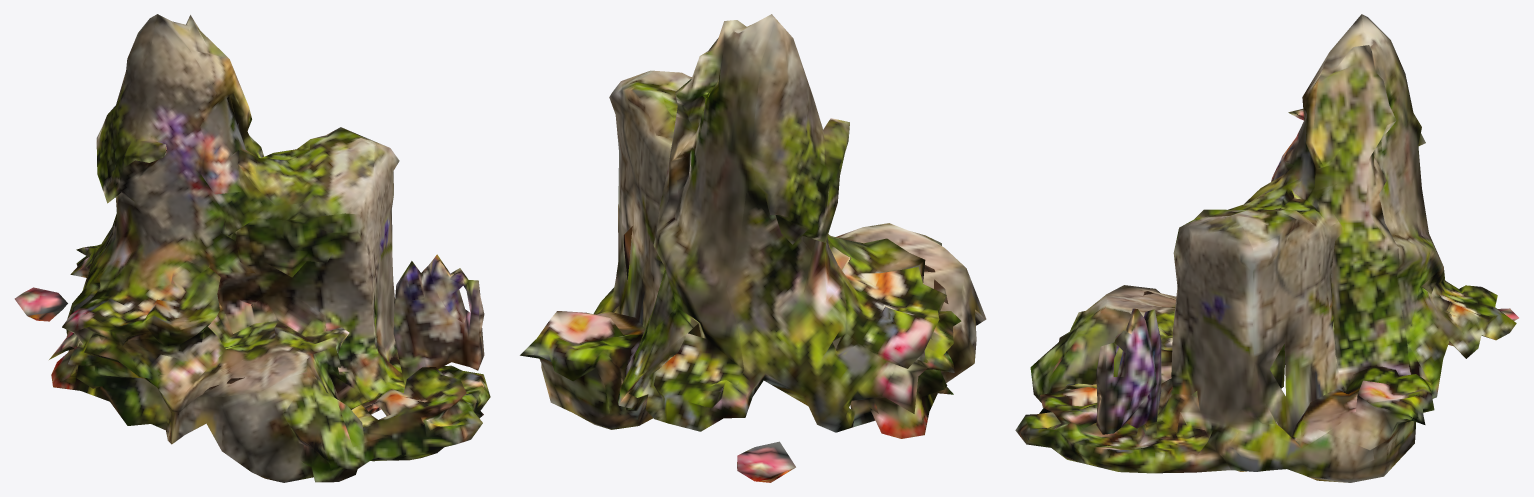
File: SpringDecor_BossRoom_BlossomPillar.fbx
3 views of the same model, side by side, from view 1: azimuth 30°, elevation 25°; view 2: azimuth 150°, elevation 25°; view 3: azimuth 270°, elevation 25° (orthographic). The views are drawn at different scales.
Visible parts, largest first — view 1: SpringDecor_BossRoom_BlossomPillar_Mesh; view 2: SpringDecor_BossRoom_BlossomPillar_Mesh; view 3: SpringDecor_BossRoom_BlossomPillar_Mesh.
Boxes of the visible parts, box(x1,y1,x2,y2) form: SpringDecor_BossRoom_BlossomPillar_Mesh: box(14, 14, 490, 482); SpringDecor_BossRoom_BlossomPillar_Mesh: box(520, 14, 986, 482); SpringDecor_BossRoom_BlossomPillar_Mesh: box(1015, 14, 1518, 482).
Bounding box in the file's own units: 4.74 × 4.95 × 6.
Materials: 1 (1 with a texture image).
